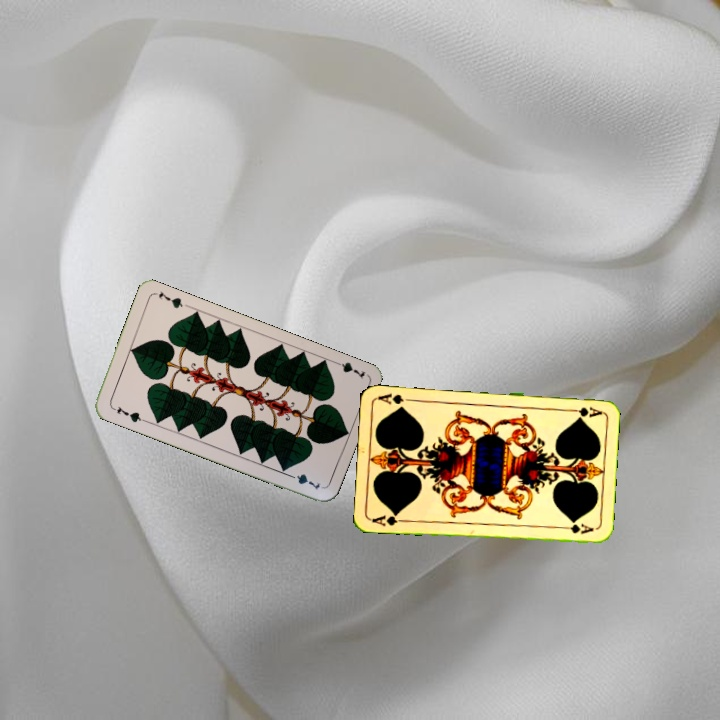G7: (328, 356, 367, 381), (108, 402, 147, 425)
GA: (368, 509, 409, 529), (563, 403, 604, 419)
